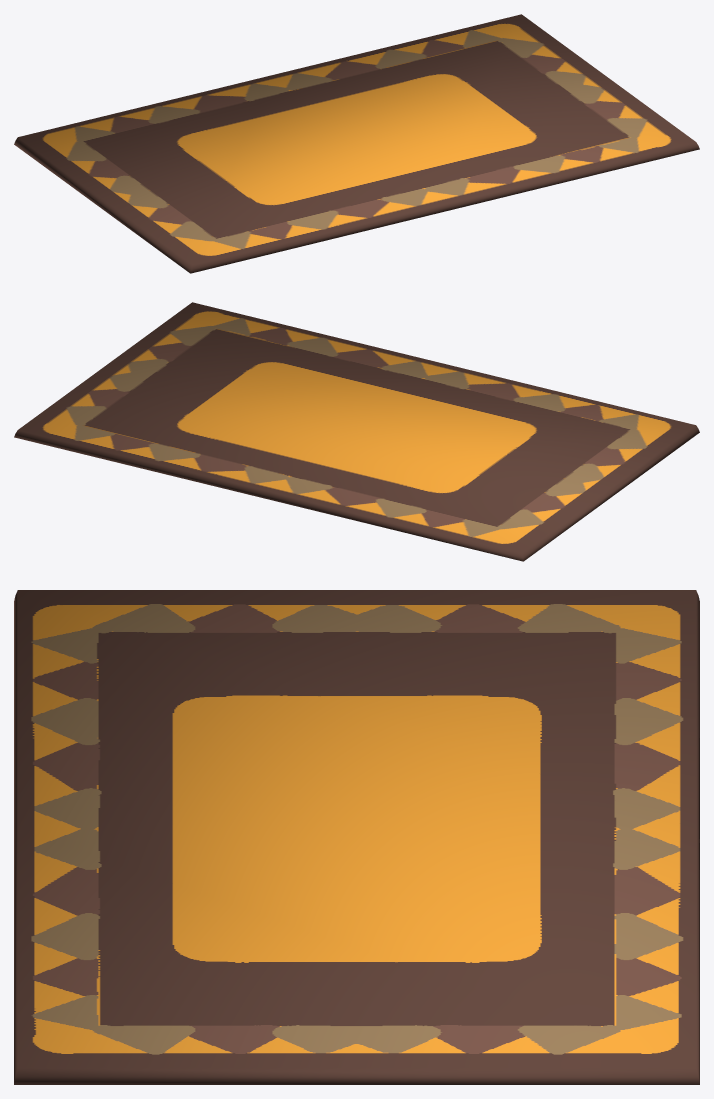
The model's file is Tapete.fbx.
The picture shows the model from 3 angles, top to bottom: view 1: azimuth 30°, elevation 25°; view 2: azimuth 150°, elevation 25°; view 3: azimuth 270°, elevation 25°; orthographic projection. The views are drawn at different scales.
Parts seen in each view (by area): view 1: Tapete; view 2: Tapete; view 3: Tapete.
Part boxes in pixels (x1,y1,x2,y2): Tapete: (14,14,699,273); Tapete: (14,302,699,561); Tapete: (14,590,699,1084).
Size of the model in its own units: 132 by 1.81 by 79.24.
